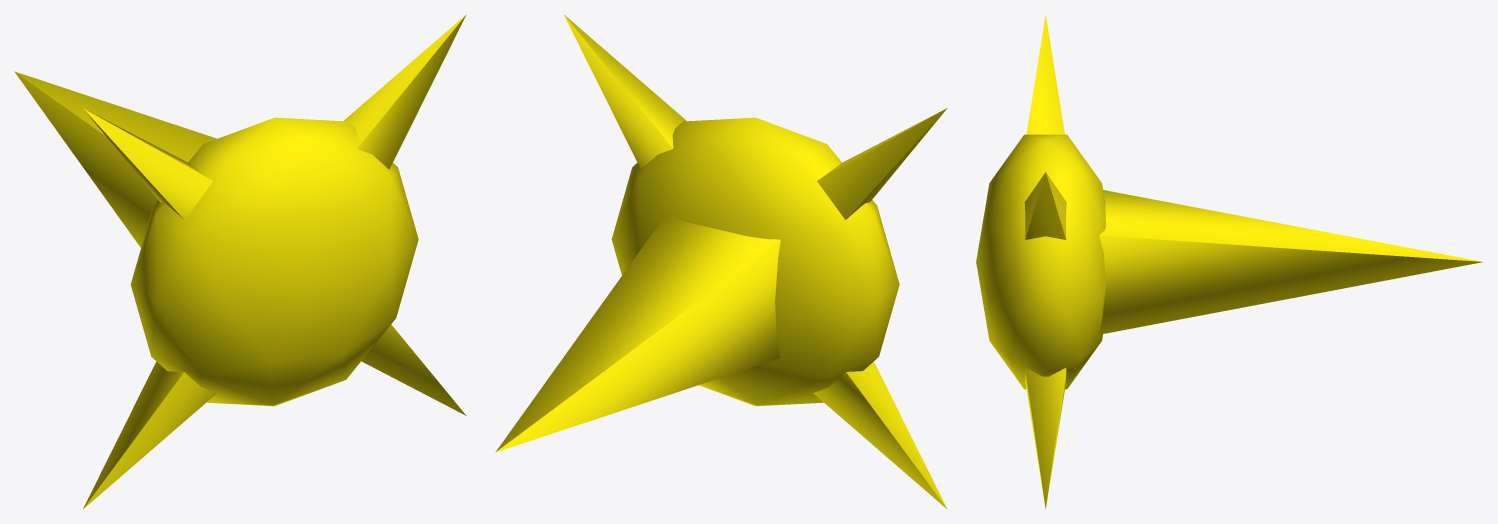
File: Muzzle_Flash.fbx
3 views of the same model, side by side, from view 1: azimuth 30°, elevation 25°; view 2: azimuth 150°, elevation 25°; view 3: azimuth 270°, elevation 25° (orthographic). The views are drawn at different scales.
Parts seen in each view (by area): view 1: Icosphere; view 2: Icosphere; view 3: Icosphere.
Boxes of the visible parts, left/top/right/bottom form: Icosphere: left=14, top=14, right=466, bottom=508; Icosphere: left=495, top=15, right=947, bottom=509; Icosphere: left=976, top=15, right=1482, bottom=508.
Bounding box in the file's own units: 30.31 × 30.31 × 41.23.
